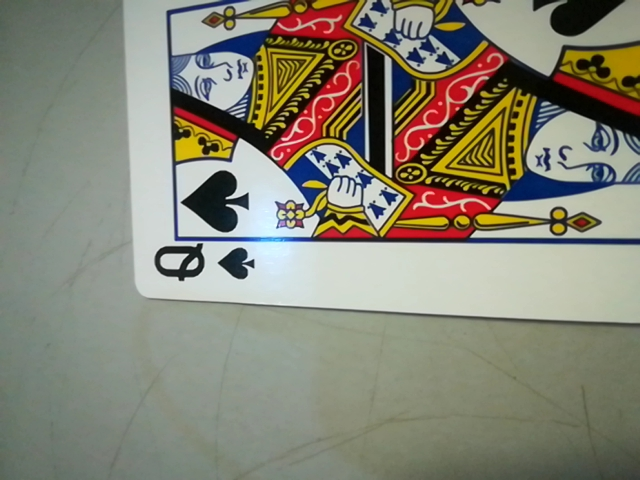ht q: (136, 235, 264, 294)
